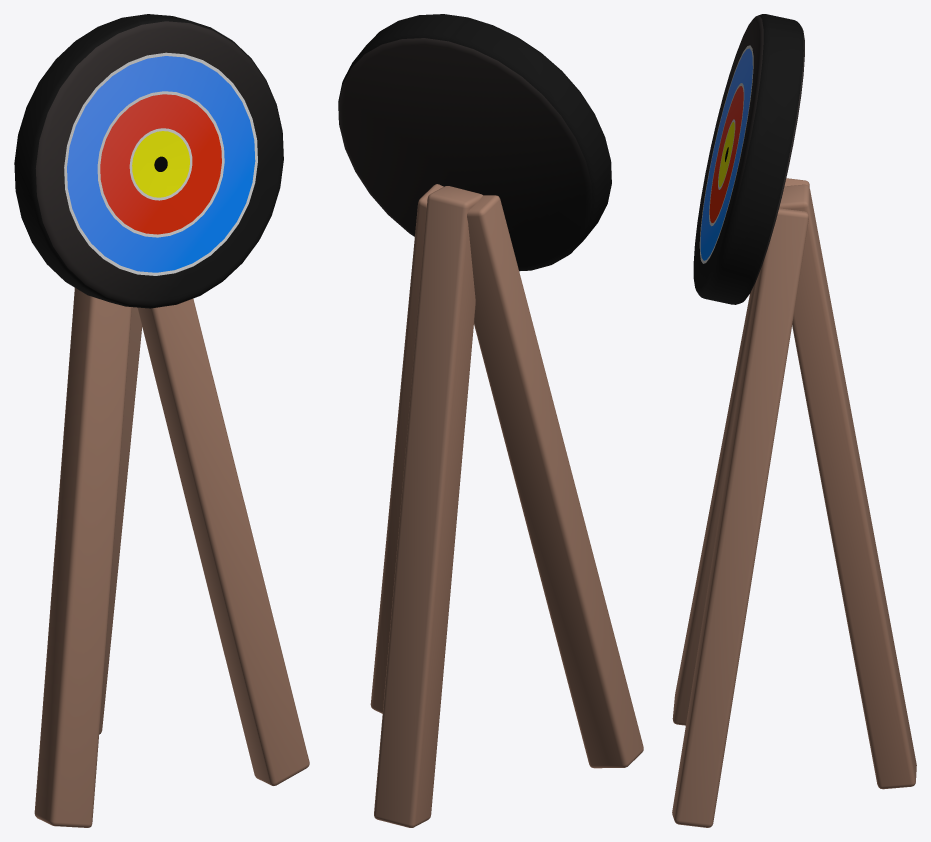
Rendered from Target1.fbx.
3 views of the same model, side by side, from view 1: azimuth 30°, elevation 25°; view 2: azimuth 150°, elevation 25°; view 3: azimuth 270°, elevation 25° (orthographic).
Visible parts, largest first — view 1: Circle_Target, Stand; view 2: Stand, Circle_Target; view 3: Stand, Circle_Target.
Part boxes in pixels (bbox=[...]): Circle_Target: bbox=[14, 14, 283, 308]; Stand: bbox=[34, 288, 309, 827]; Stand: bbox=[370, 184, 643, 827]; Circle_Target: bbox=[338, 14, 611, 271]; Stand: bbox=[672, 178, 916, 827]; Circle_Target: bbox=[693, 14, 804, 304].
Size of the model in its own units: 47.05 by 130 by 38.4.
